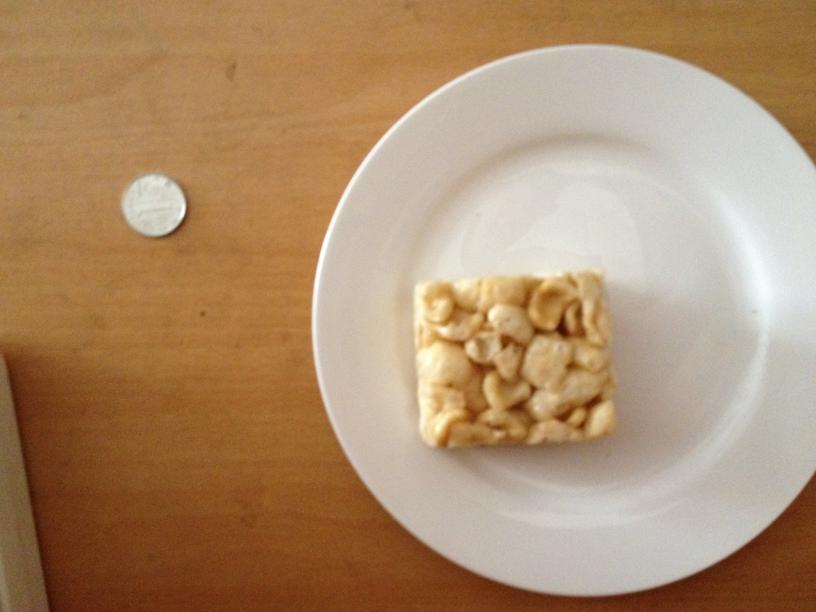coin: (120, 173, 188, 236)
sachima: (409, 270, 615, 445)
